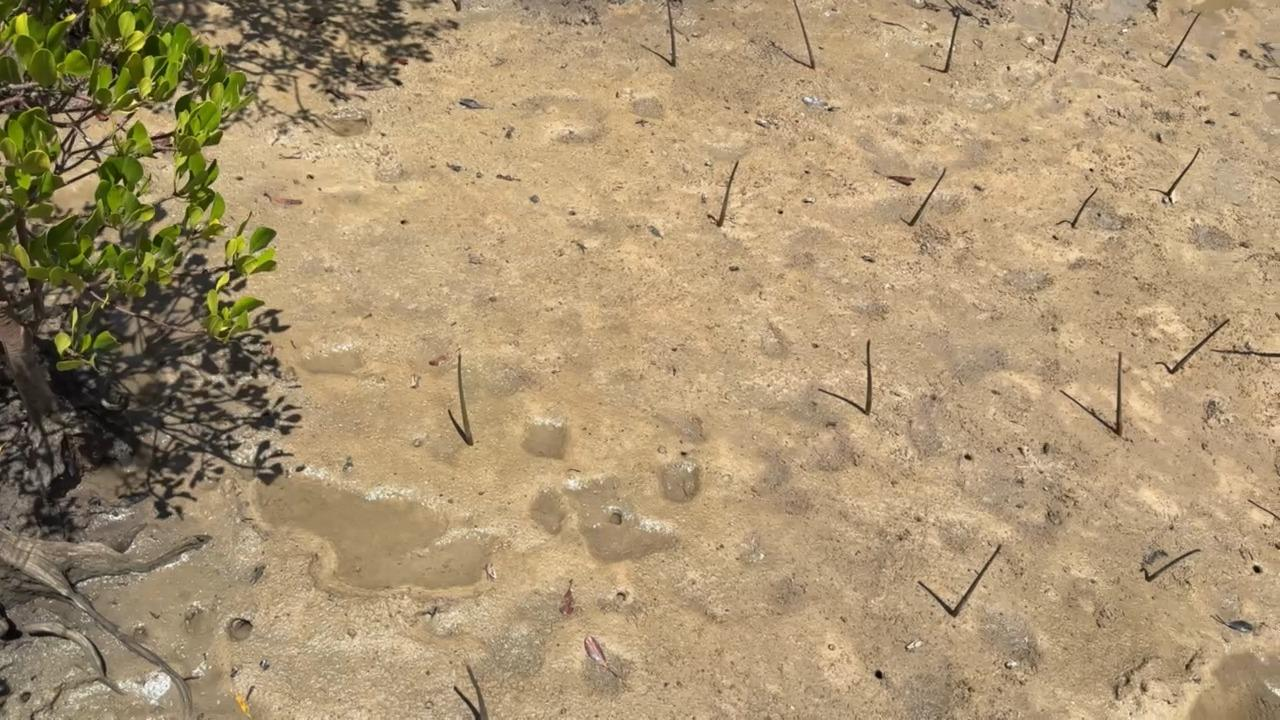Tree: (951, 543, 1002, 619), (1167, 319, 1231, 375), (908, 167, 946, 225), (1164, 13, 1201, 66), (1147, 548, 1201, 584), (1166, 148, 1200, 194), (716, 160, 739, 227), (793, 0, 815, 68), (458, 353, 474, 445), (942, 0, 961, 73), (465, 663, 488, 720), (1053, 0, 1073, 64), (1072, 188, 1098, 226), (864, 338, 873, 414), (665, 0, 675, 66), (1116, 351, 1123, 436)
